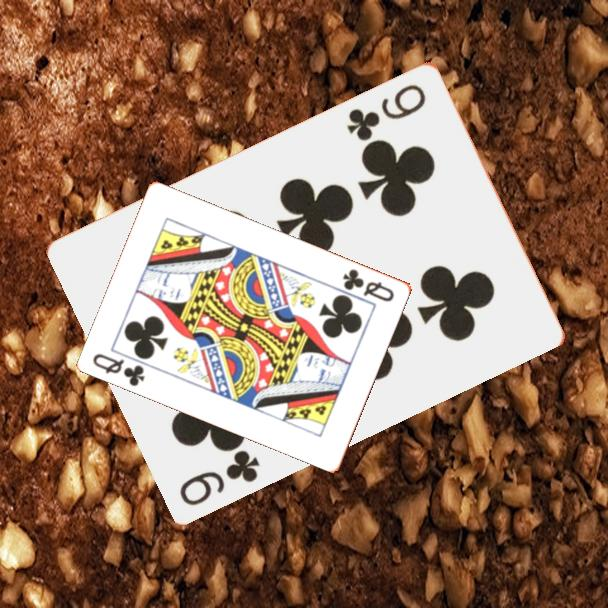c09: (176, 445, 264, 508), (343, 80, 429, 144)
c12: (339, 265, 398, 305), (90, 350, 148, 389)
